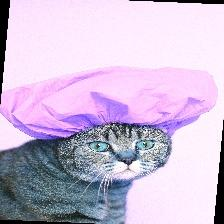kedo: (0, 124, 172, 224)
